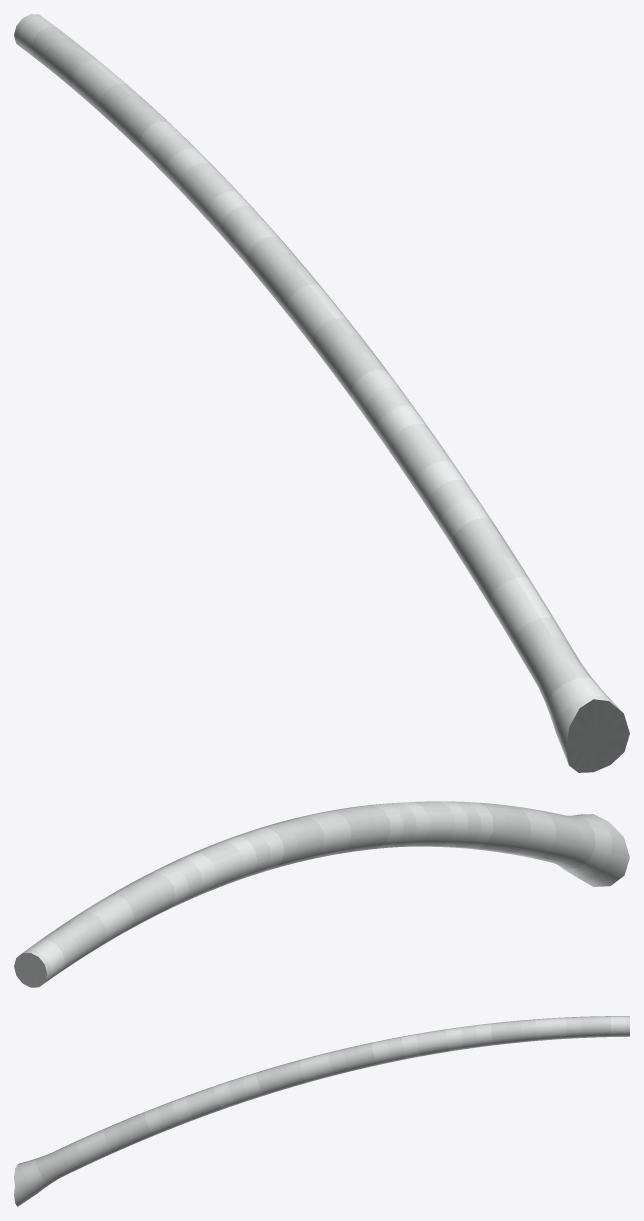
The model's file is luminairearm_caltrans12ft_inv.obj.
3 renders of one model, top to bottom at view 1: azimuth 30°, elevation 25°; view 2: azimuth 150°, elevation 25°; view 3: azimuth 270°, elevation 25°, orthographic. The views are drawn at different scales.
Parts seen in each view (by area): view 1: luminairearm_caltrans12ft_inv; view 2: luminairearm_caltrans12ft_inv; view 3: luminairearm_caltrans12ft_inv.
Boxes of the visible parts, x1=… form: luminairearm_caltrans12ft_inv: x1=14, y1=14, x2=629, y2=772; luminairearm_caltrans12ft_inv: x1=14, y1=801, x2=629, y2=987; luminairearm_caltrans12ft_inv: x1=14, y1=1016, x2=629, y2=1206.
Size of the model in its own units: 0.0654 by 0.3367 by 1.
